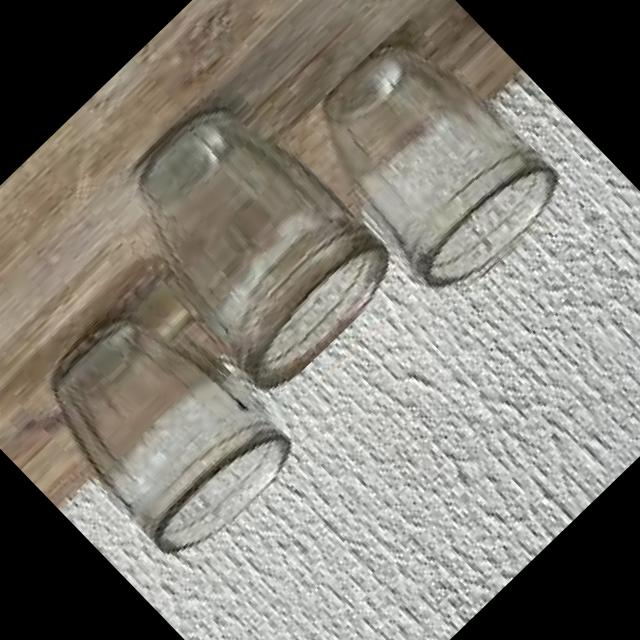Glass: (84, 78, 408, 402), (280, 17, 575, 314), (14, 277, 307, 572)
